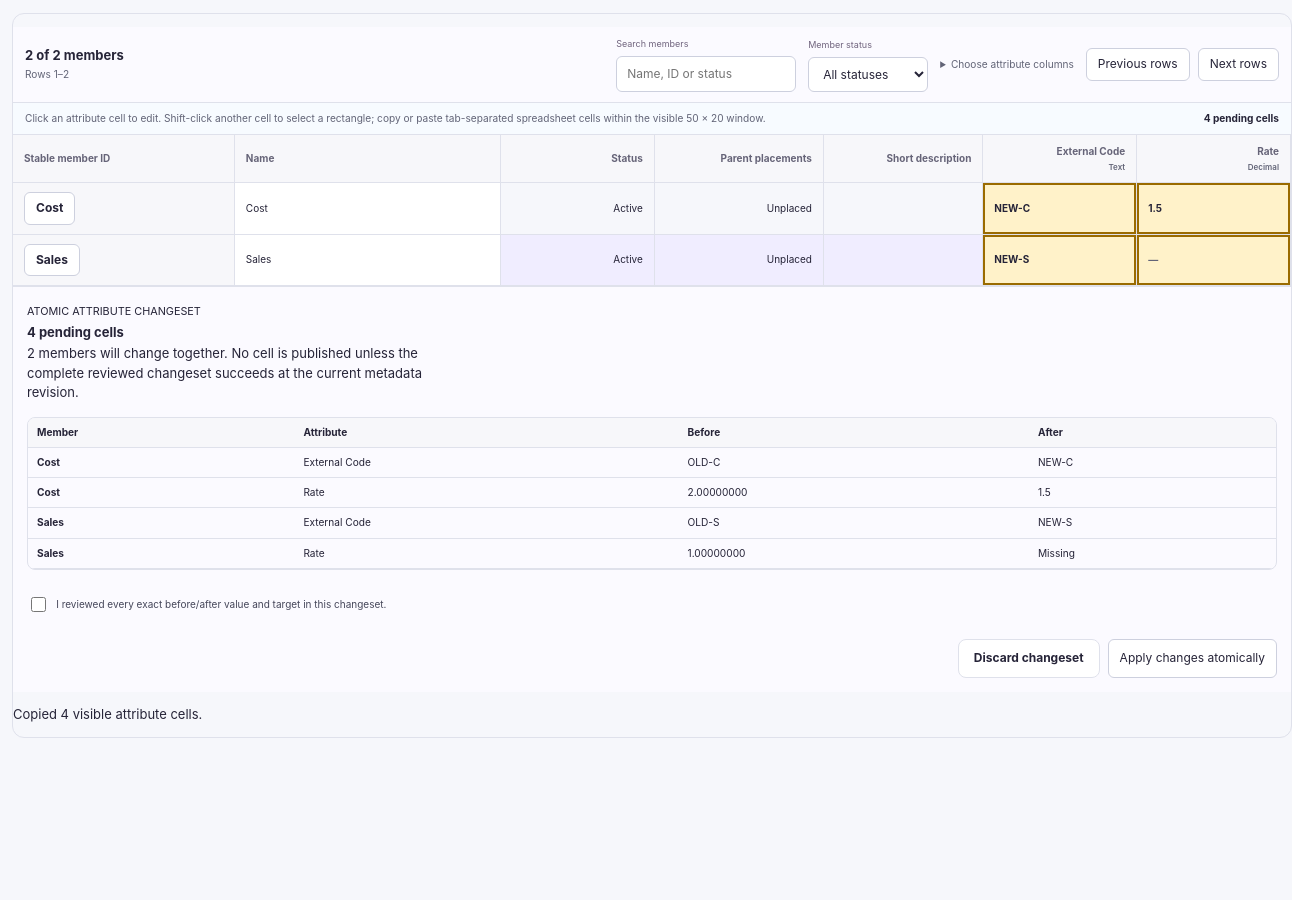
Test: stages spreadsheet cells and applies one exact atomic member changeset
The image size is (1292, 900).
Check: the element named "Member attribute changeset" shows "4 pending cells", box [13,286,1291,692]
Check: the cell named "Rate for Cost" reads "1.5", box [1148,202,1162,214]
Step 1. Click the checkbox labelled "I reviewed every exact before/after value and target in this changeset." → x=38, y=604, box [31,597,46,612]
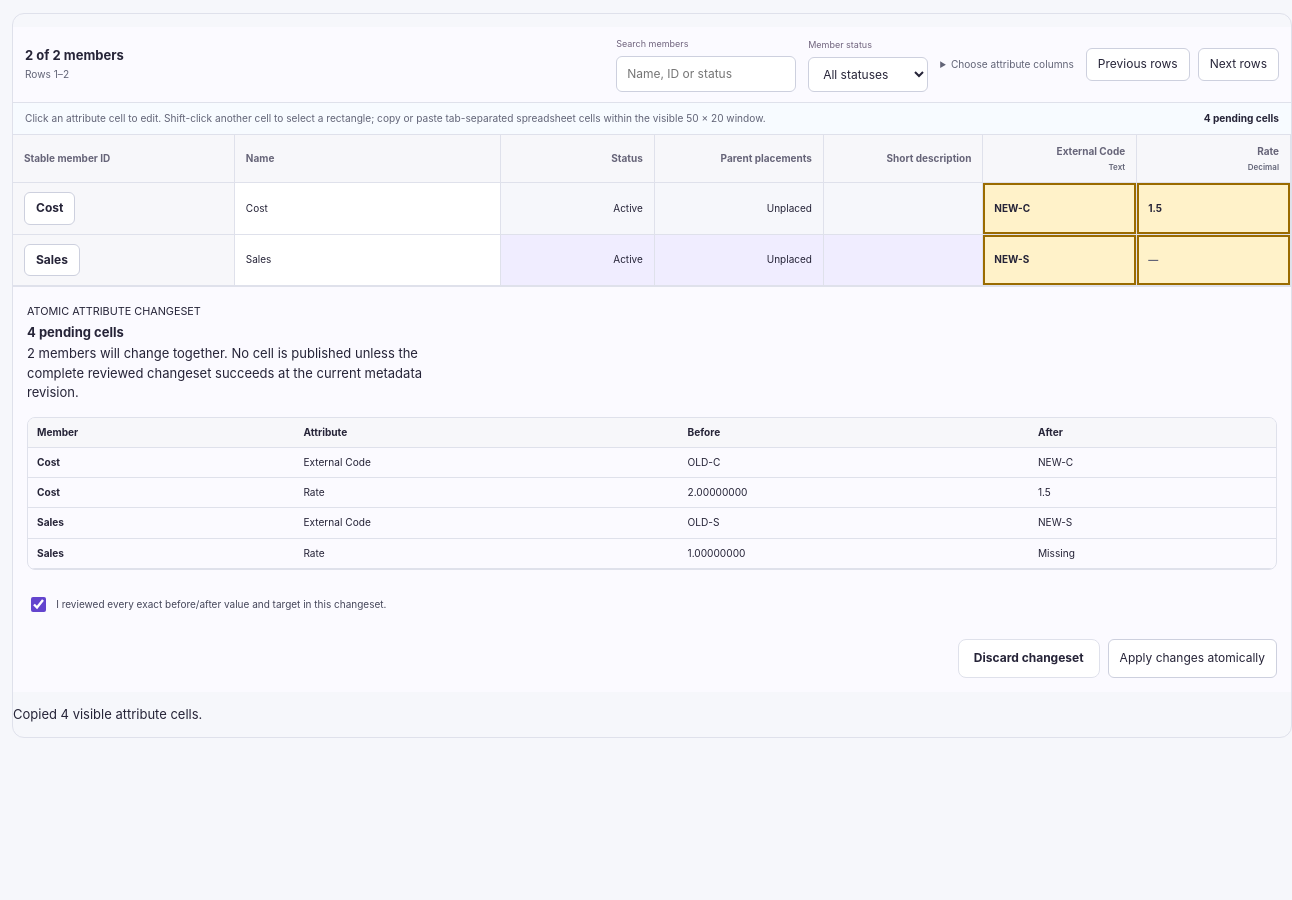
Step 2. Click the button "Apply changes atomically" → x=1192, y=658, box [1108,639,1277,678]
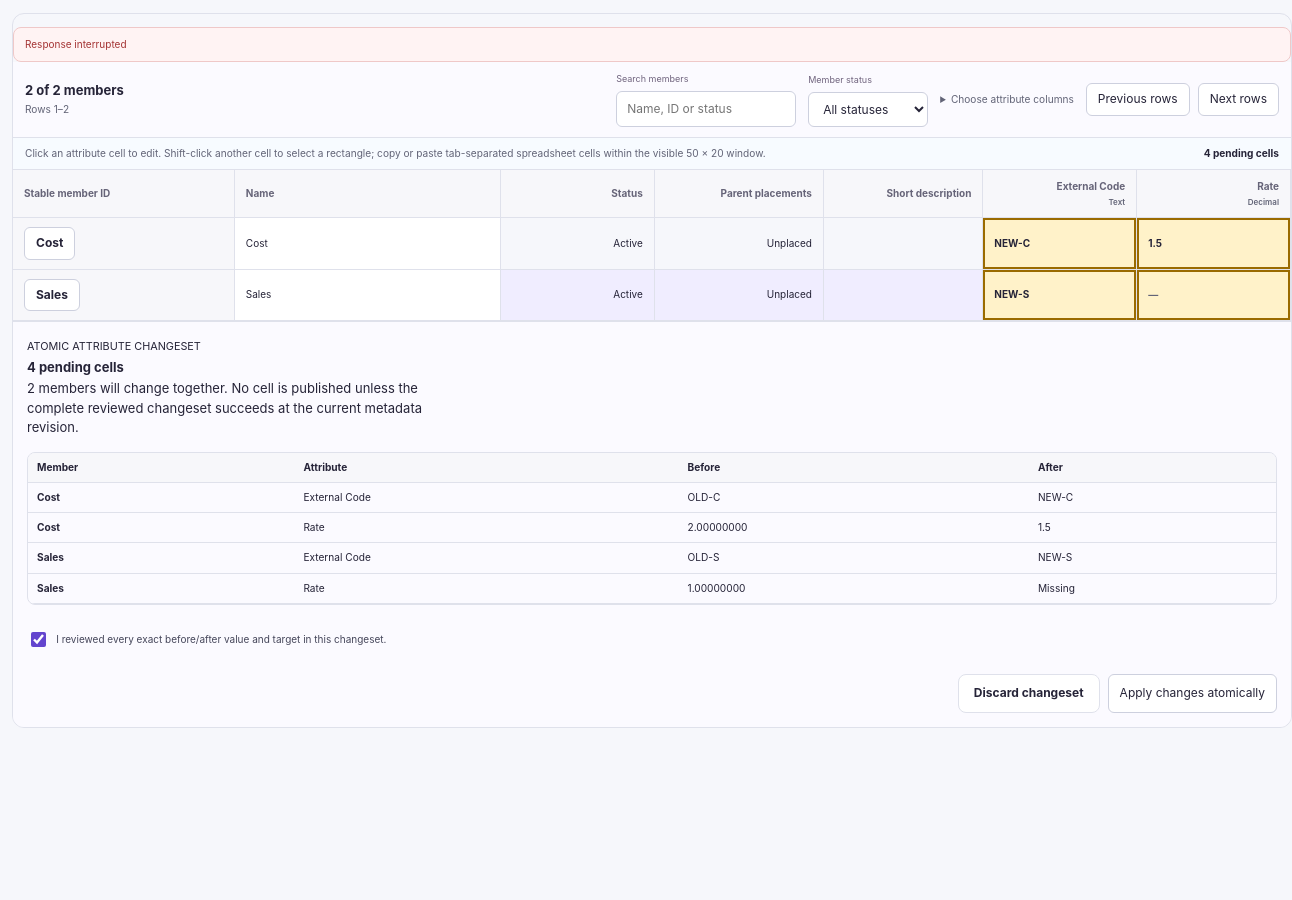
Check: the message "Response interrupted" is shown, box [13,27,1291,62]
Step 3. Click the button "Apply changes atomically" → x=1192, y=693, box [1108,674,1277,713]
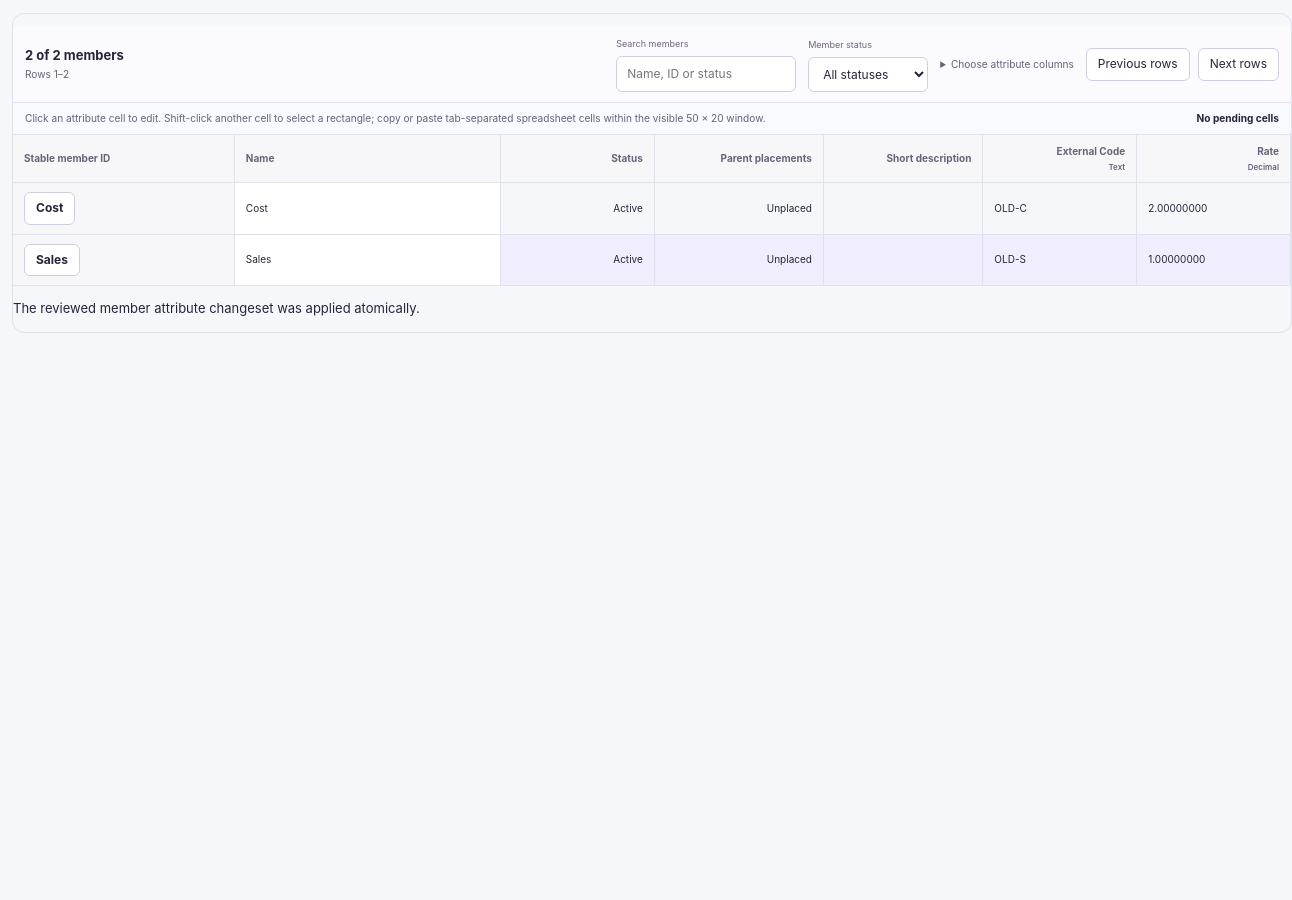
Check: the text "The reviewed member attribute changeset was applied atomically." is shown, box [13,300,420,316]
